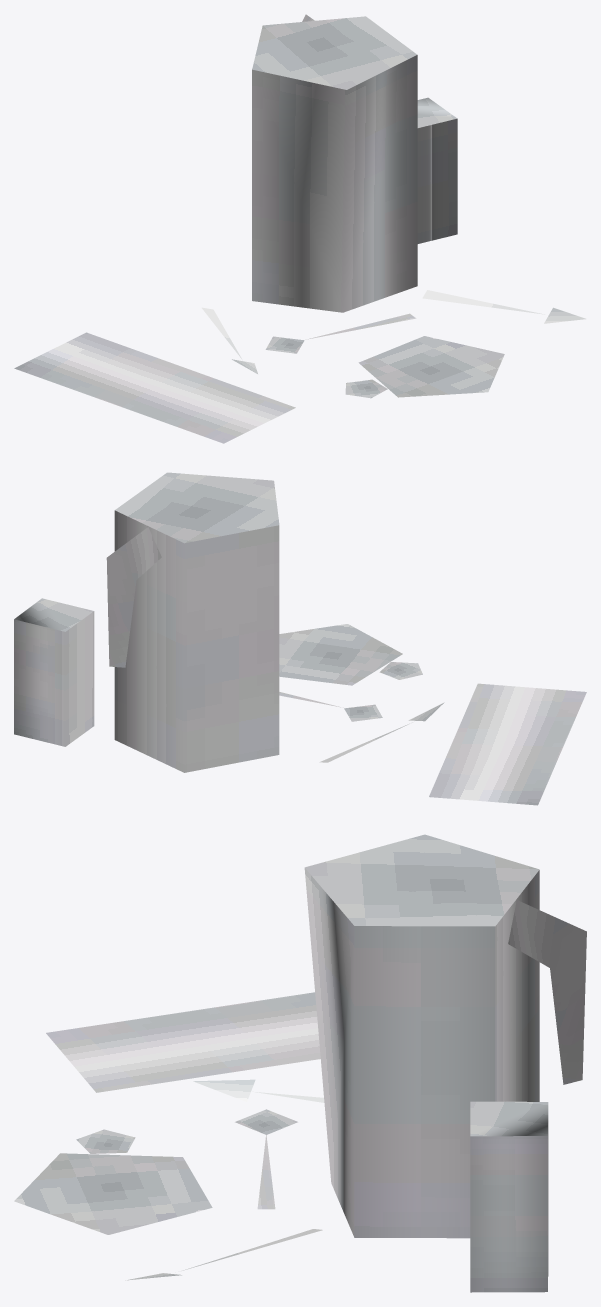
File: eqp_cook_kitchen_set_lg_s1_l3.fbx
3 renders of one model, top to bottom at view 1: azimuth 30°, elevation 25°; view 2: azimuth 150°, elevation 25°; view 3: azimuth 270°, elevation 25°, orthographic. The views are drawn at different scales.
Parts seen in each view (by area): view 1: mesh_node; view 2: mesh_node; view 3: mesh_node.
Part boxes in pixels (x1,y1,x2,y2): mesh_node: (14,14,585,443); mesh_node: (14,472,586,805); mesh_node: (14,834,586,1292).
Size of the model in its own units: 0.6599 by 0.3089 by 0.5143.
